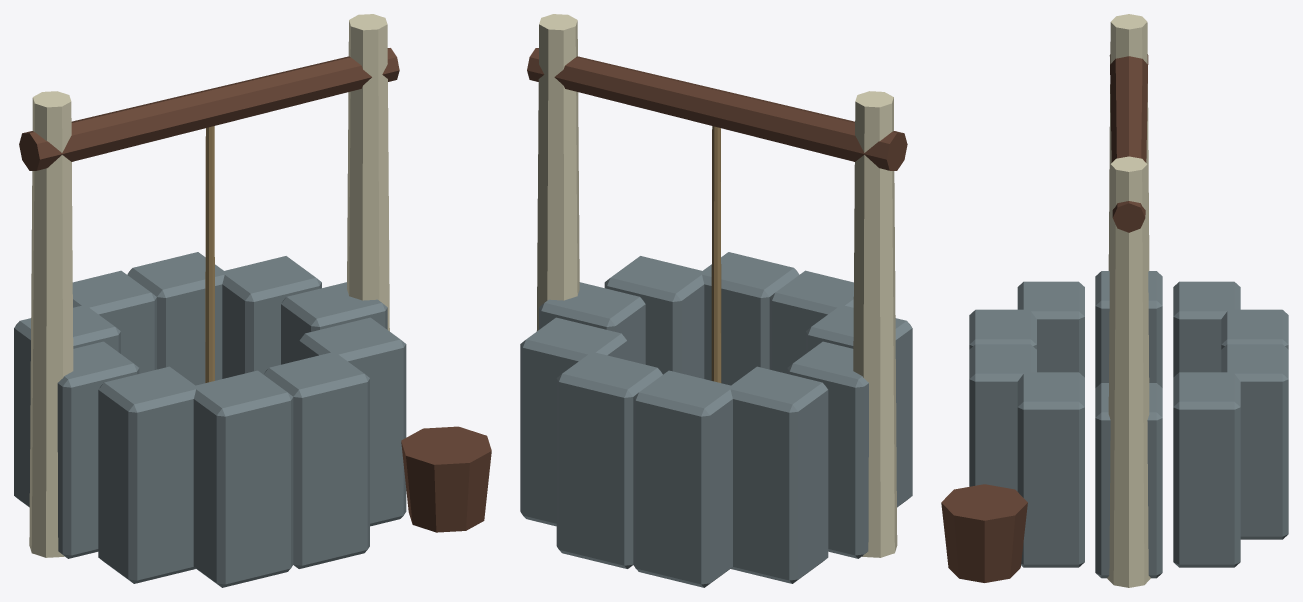
File: goblin_well.glb
3 views of the same model, side by side, from view 1: azimuth 30°, elevation 25°; view 2: azimuth 150°, elevation 25°; view 3: azimuth 270°, elevation 25° (orthographic). The views are drawn at different scales.
Visible parts, largest first — view 1: Geometry; view 2: Geometry; view 3: Geometry.
Boxes of the visible parts, bbox=[...] form: Geometry: bbox=[14, 14, 491, 587]; Geometry: bbox=[520, 14, 912, 587]; Geometry: bbox=[941, 14, 1288, 587].
Size of the model in its own units: 1.68 by 1.9 by 1.44.
